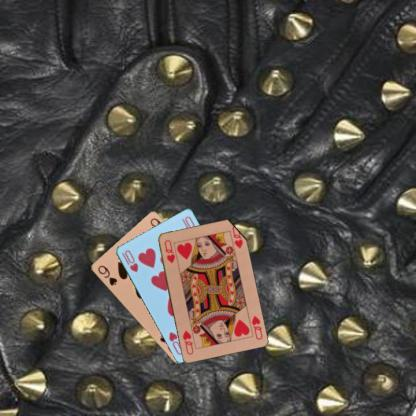10h: (122, 248, 139, 274)
9s: (95, 263, 118, 287)
Qh: (162, 237, 176, 265), (249, 313, 263, 341)
